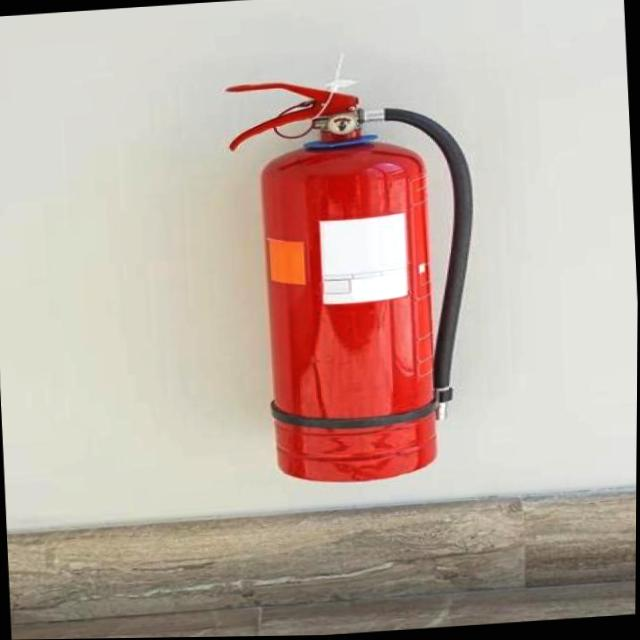FireExtinguisher: (206, 59, 496, 495)
